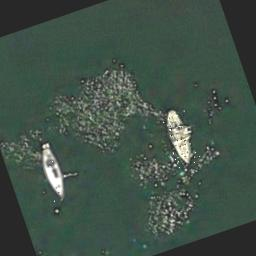boat: (158, 104, 202, 168), (37, 146, 71, 201)
